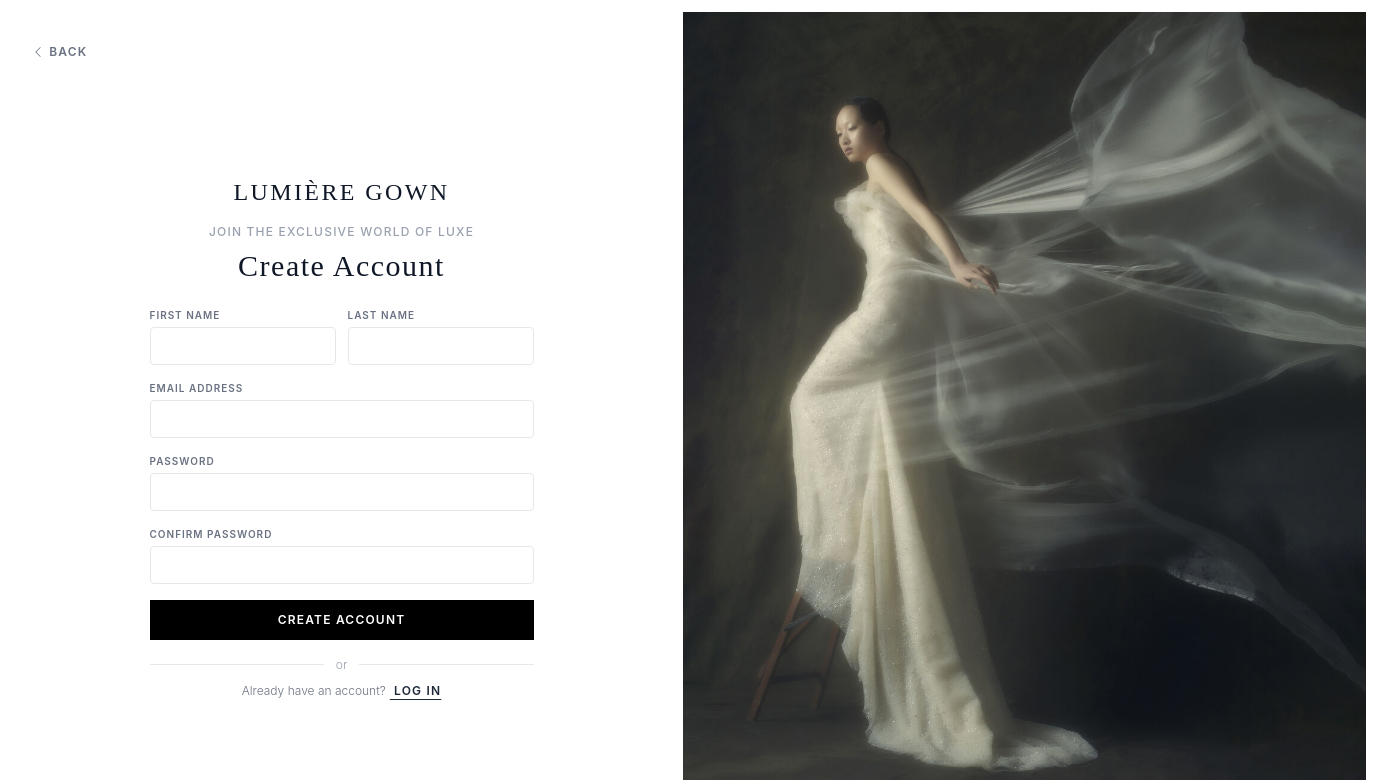
Scenario: RegisterView.vue › shows error message when password and confirm password do not match
The image size is (1378, 780).
Step 1. Type "Chanya" into the field with id "firstName" → {"x": 242, "y": 346}, box left=150, top=327, right=336, bottom=365
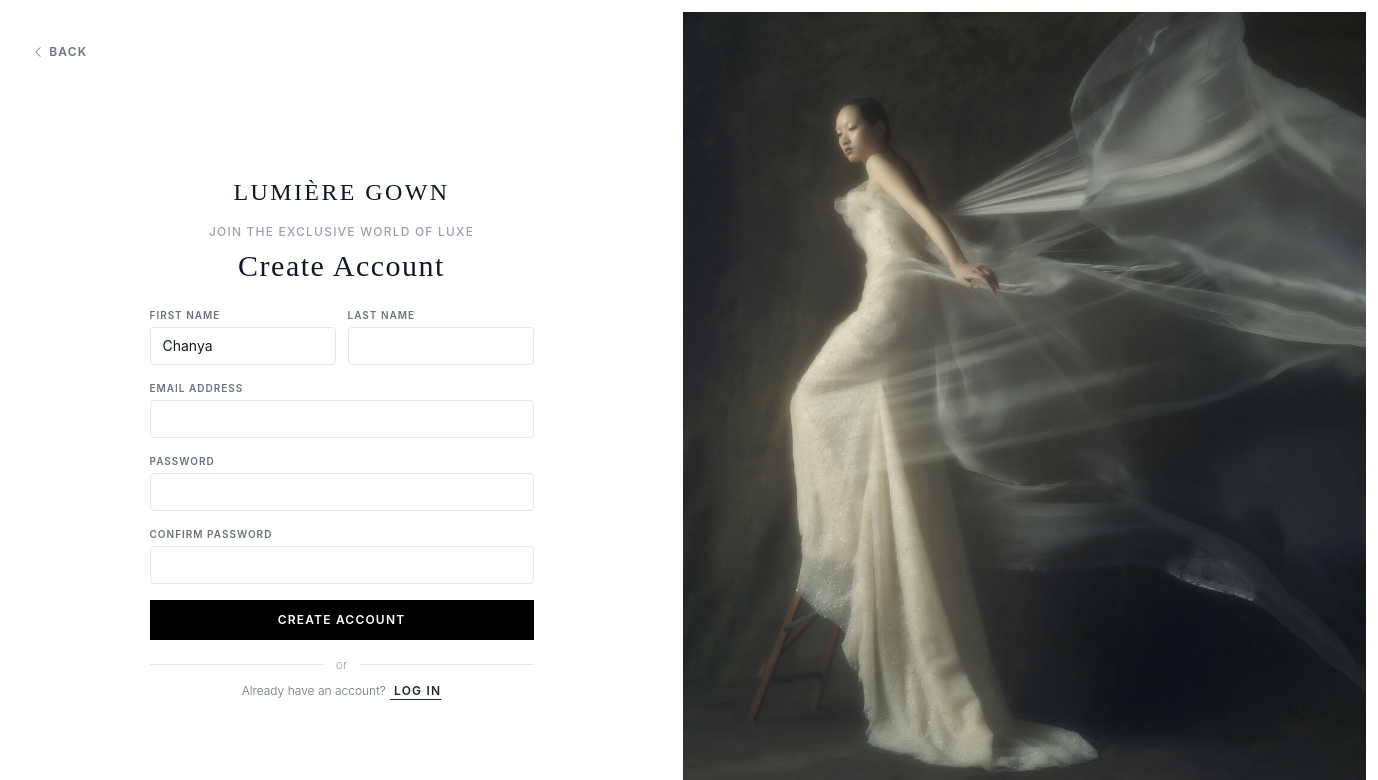
Step 2. Type "chanya@metric.com" into the field with id "email" → {"x": 342, "y": 419}, box left=150, top=400, right=534, bottom=438
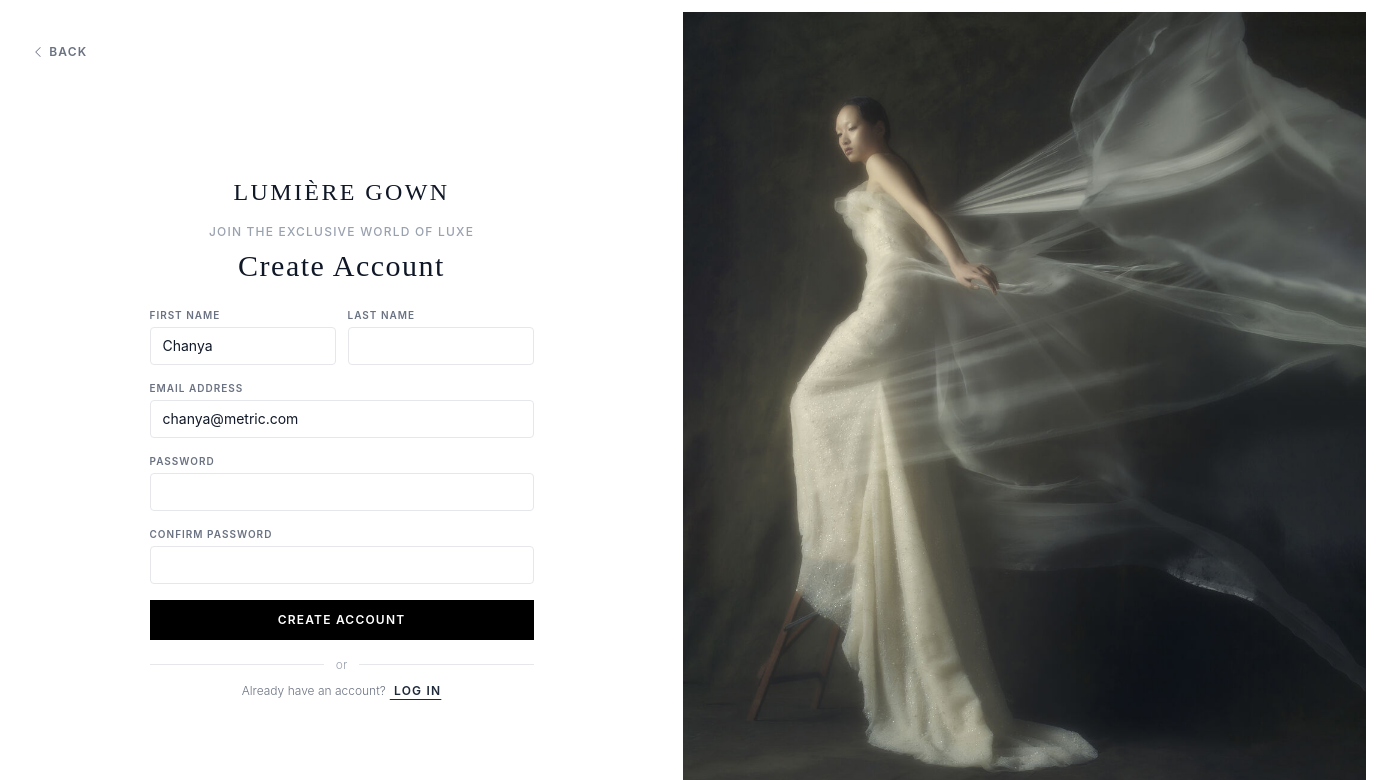
Step 3. Type "password123" into the password field labelled "Password" → {"x": 342, "y": 492}, box left=150, top=473, right=534, bottom=511
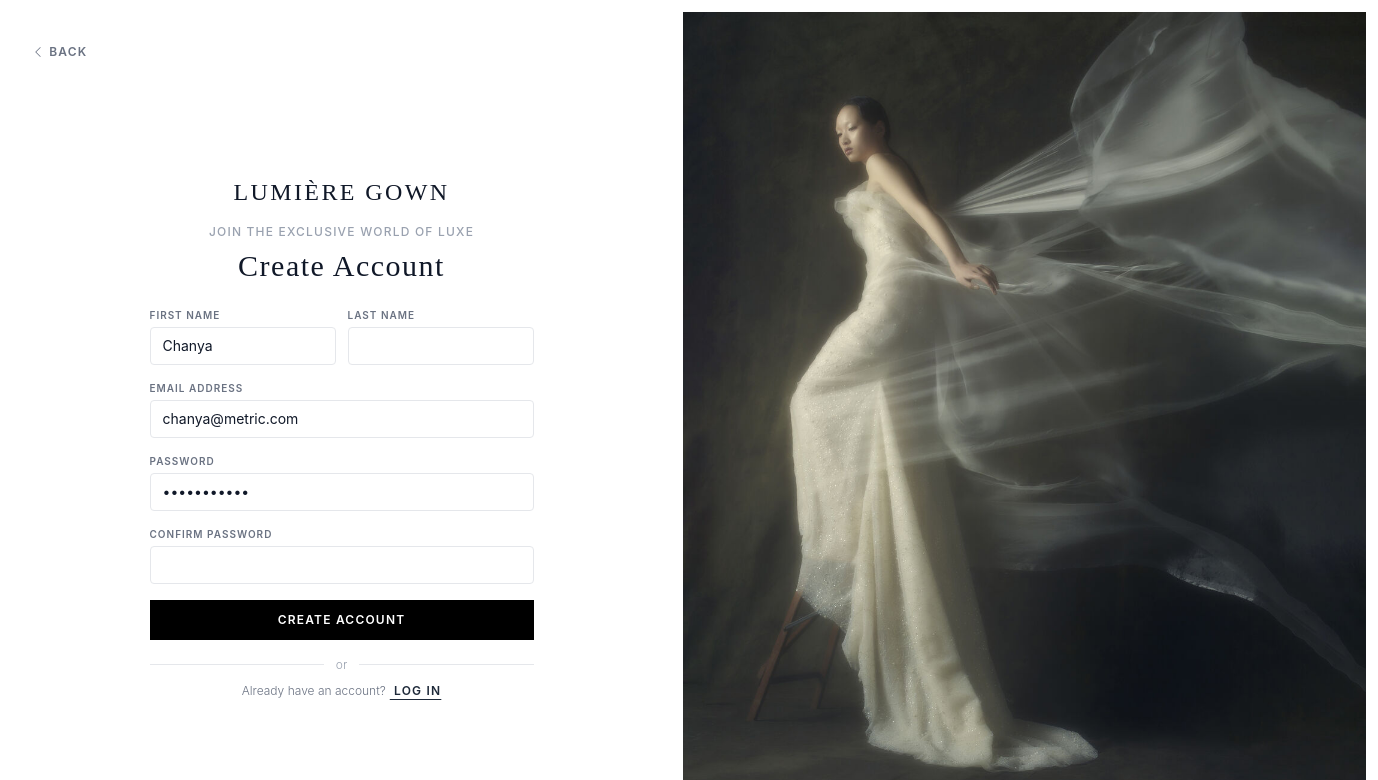
Step 4. Type "wrongpassword" into the password field labelled "Confirm Password" → {"x": 342, "y": 565}, box left=150, top=546, right=534, bottom=584
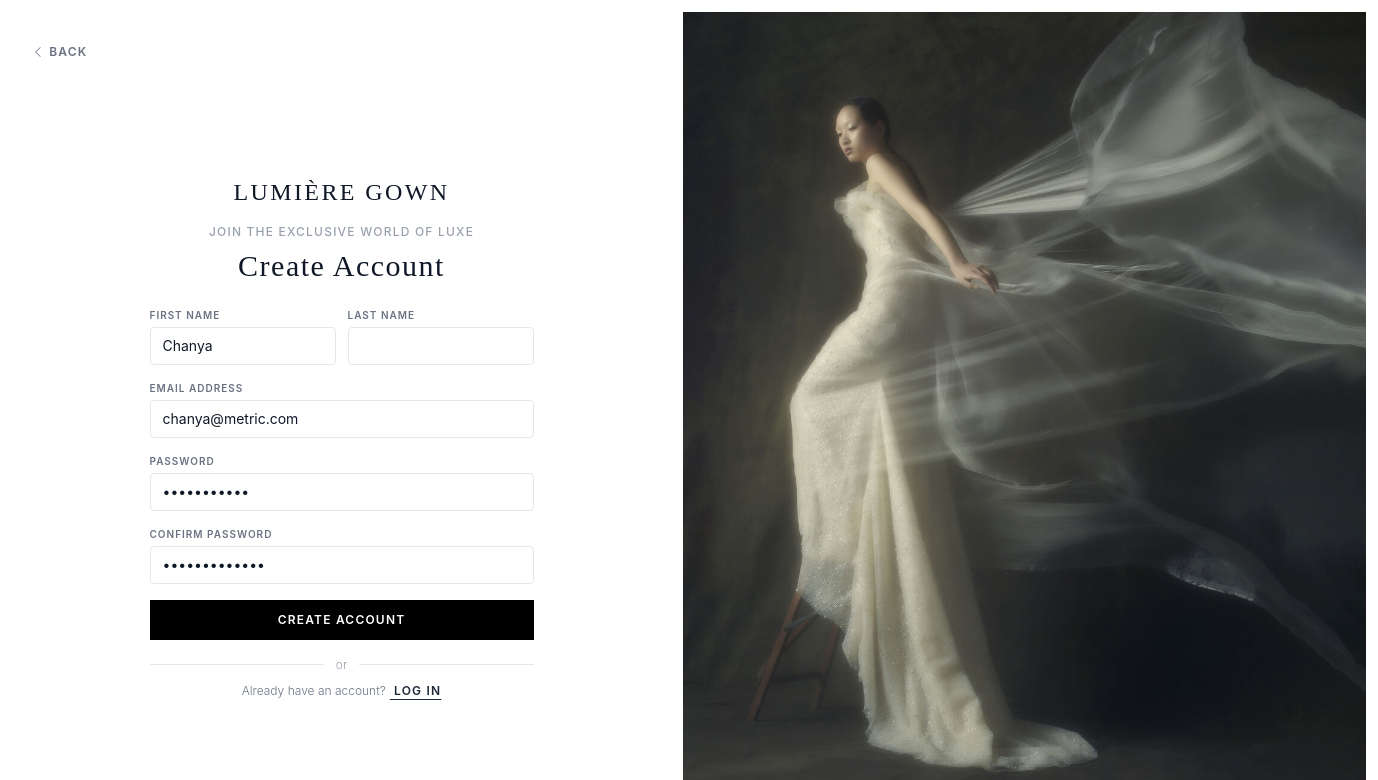
Step 5. Submit the form, box left=150, top=308, right=534, bottom=640
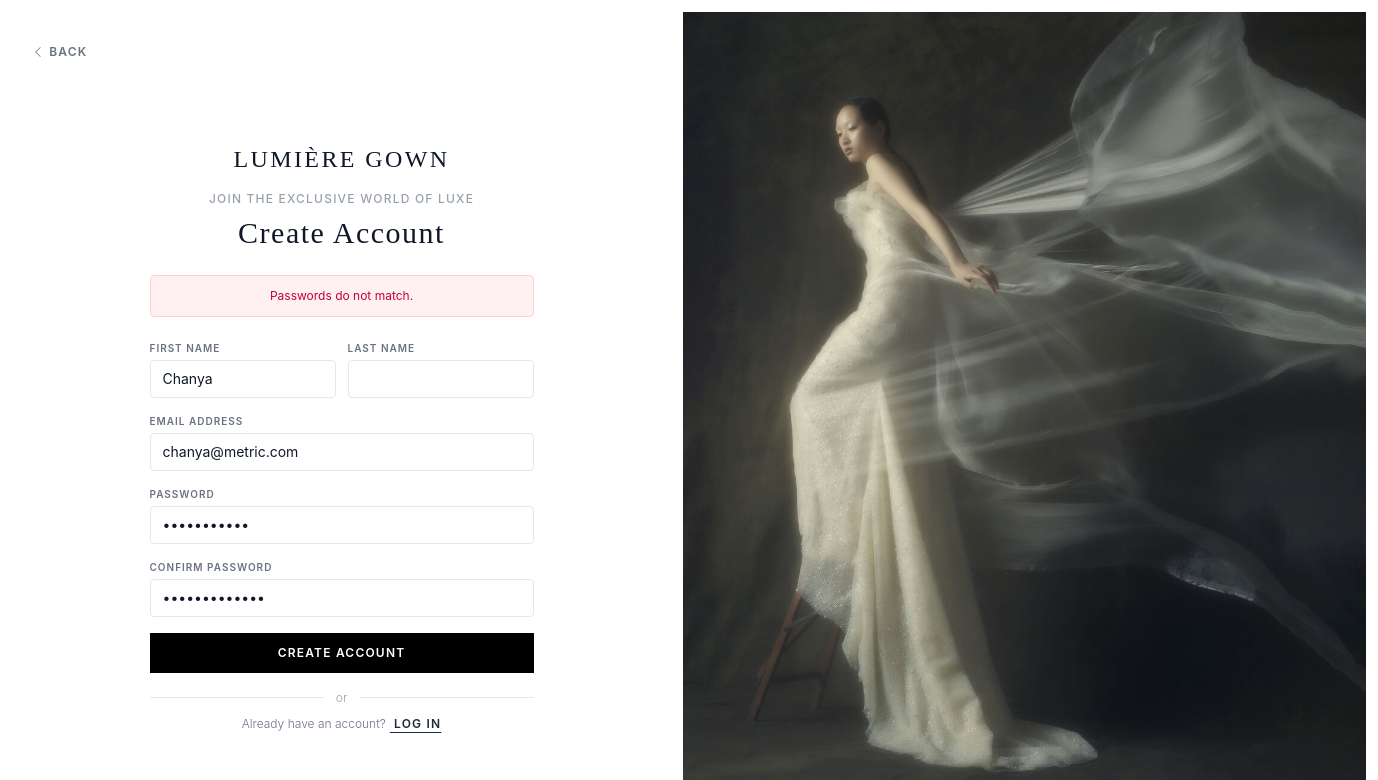
Expected: the text "Passwords do not match." is shown, left=150, top=275, right=534, bottom=317
